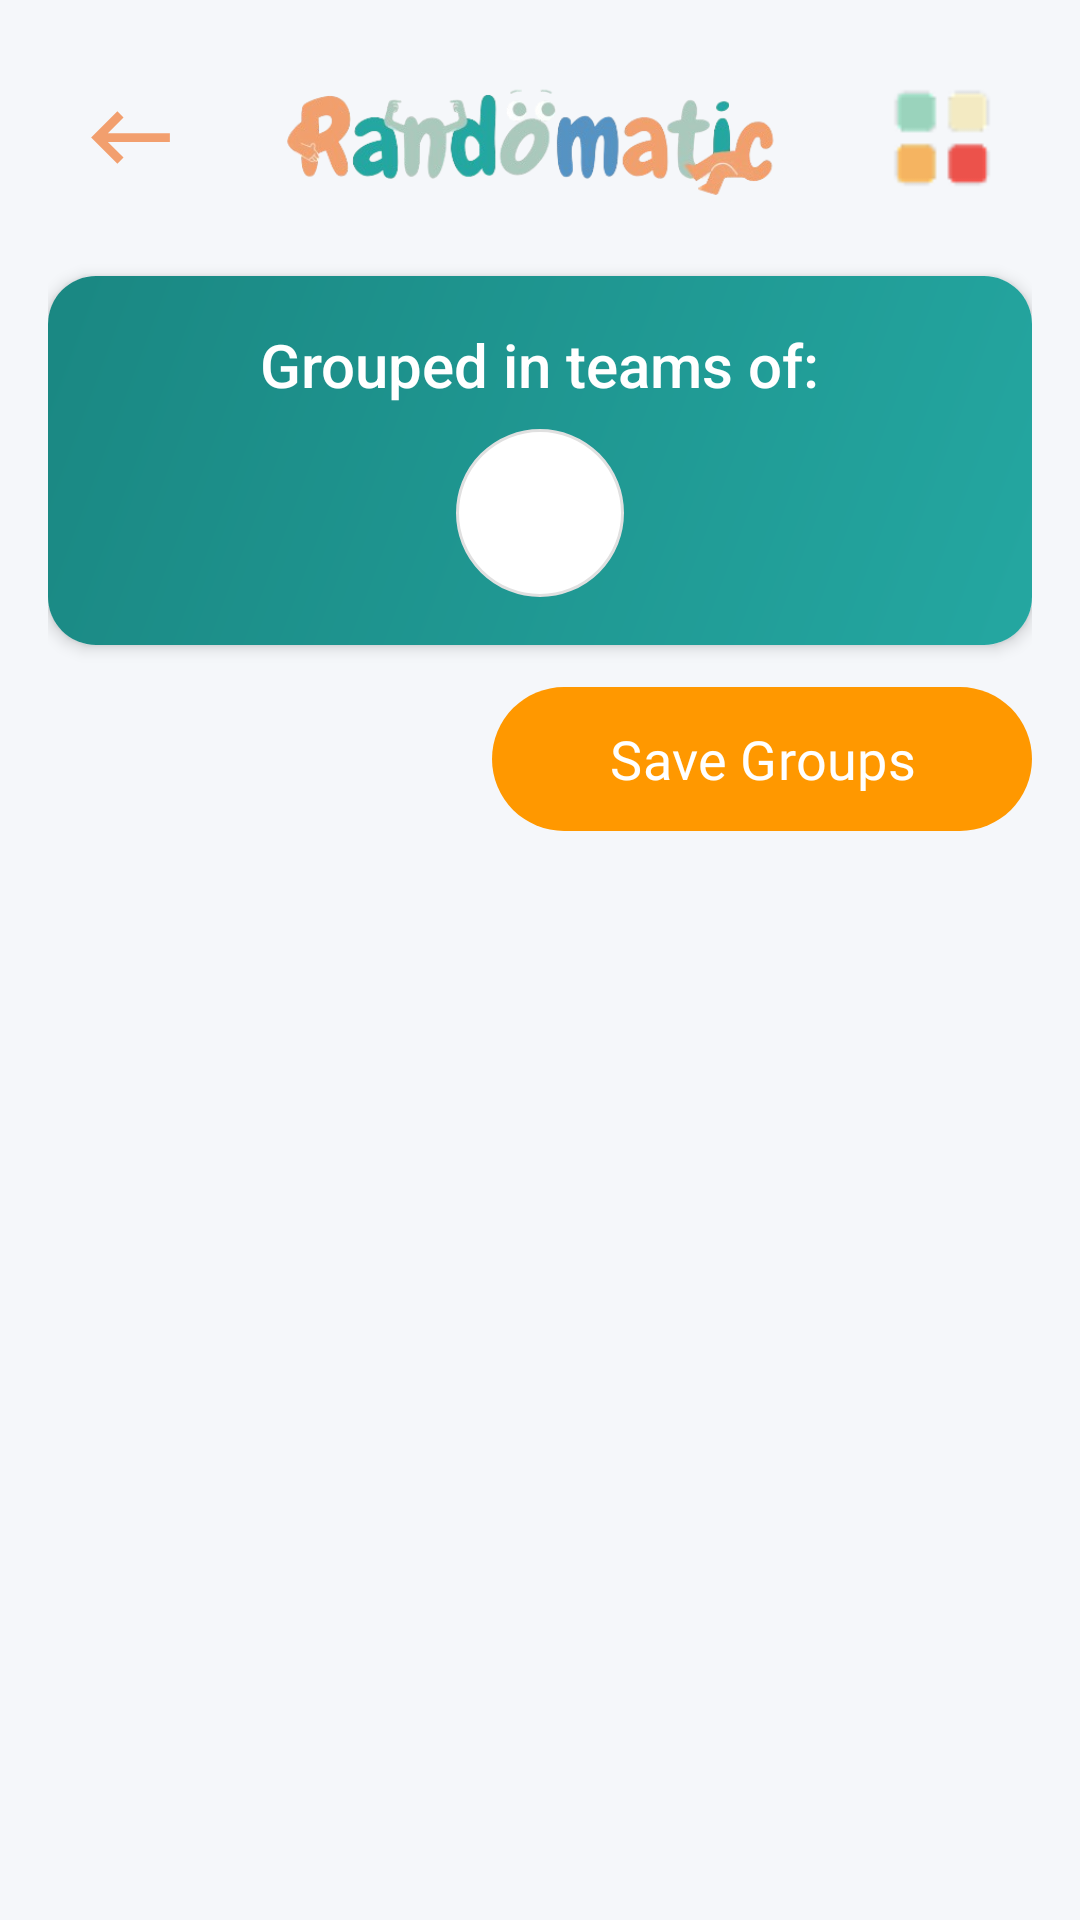

Icon bounding boxes for this 1080 x 1920 phone screenshot, format detection(x1, y1, x2, y2):
keyboard backspace: detection(91, 111, 170, 164)
